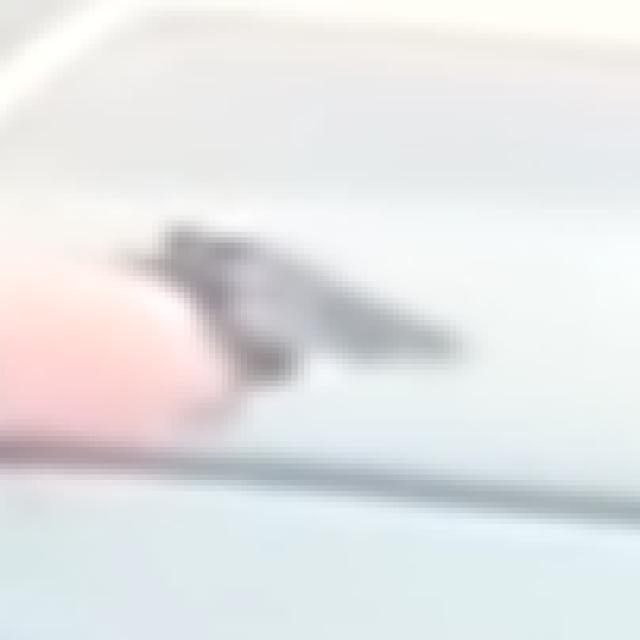FPistol: (151, 210, 462, 448)
